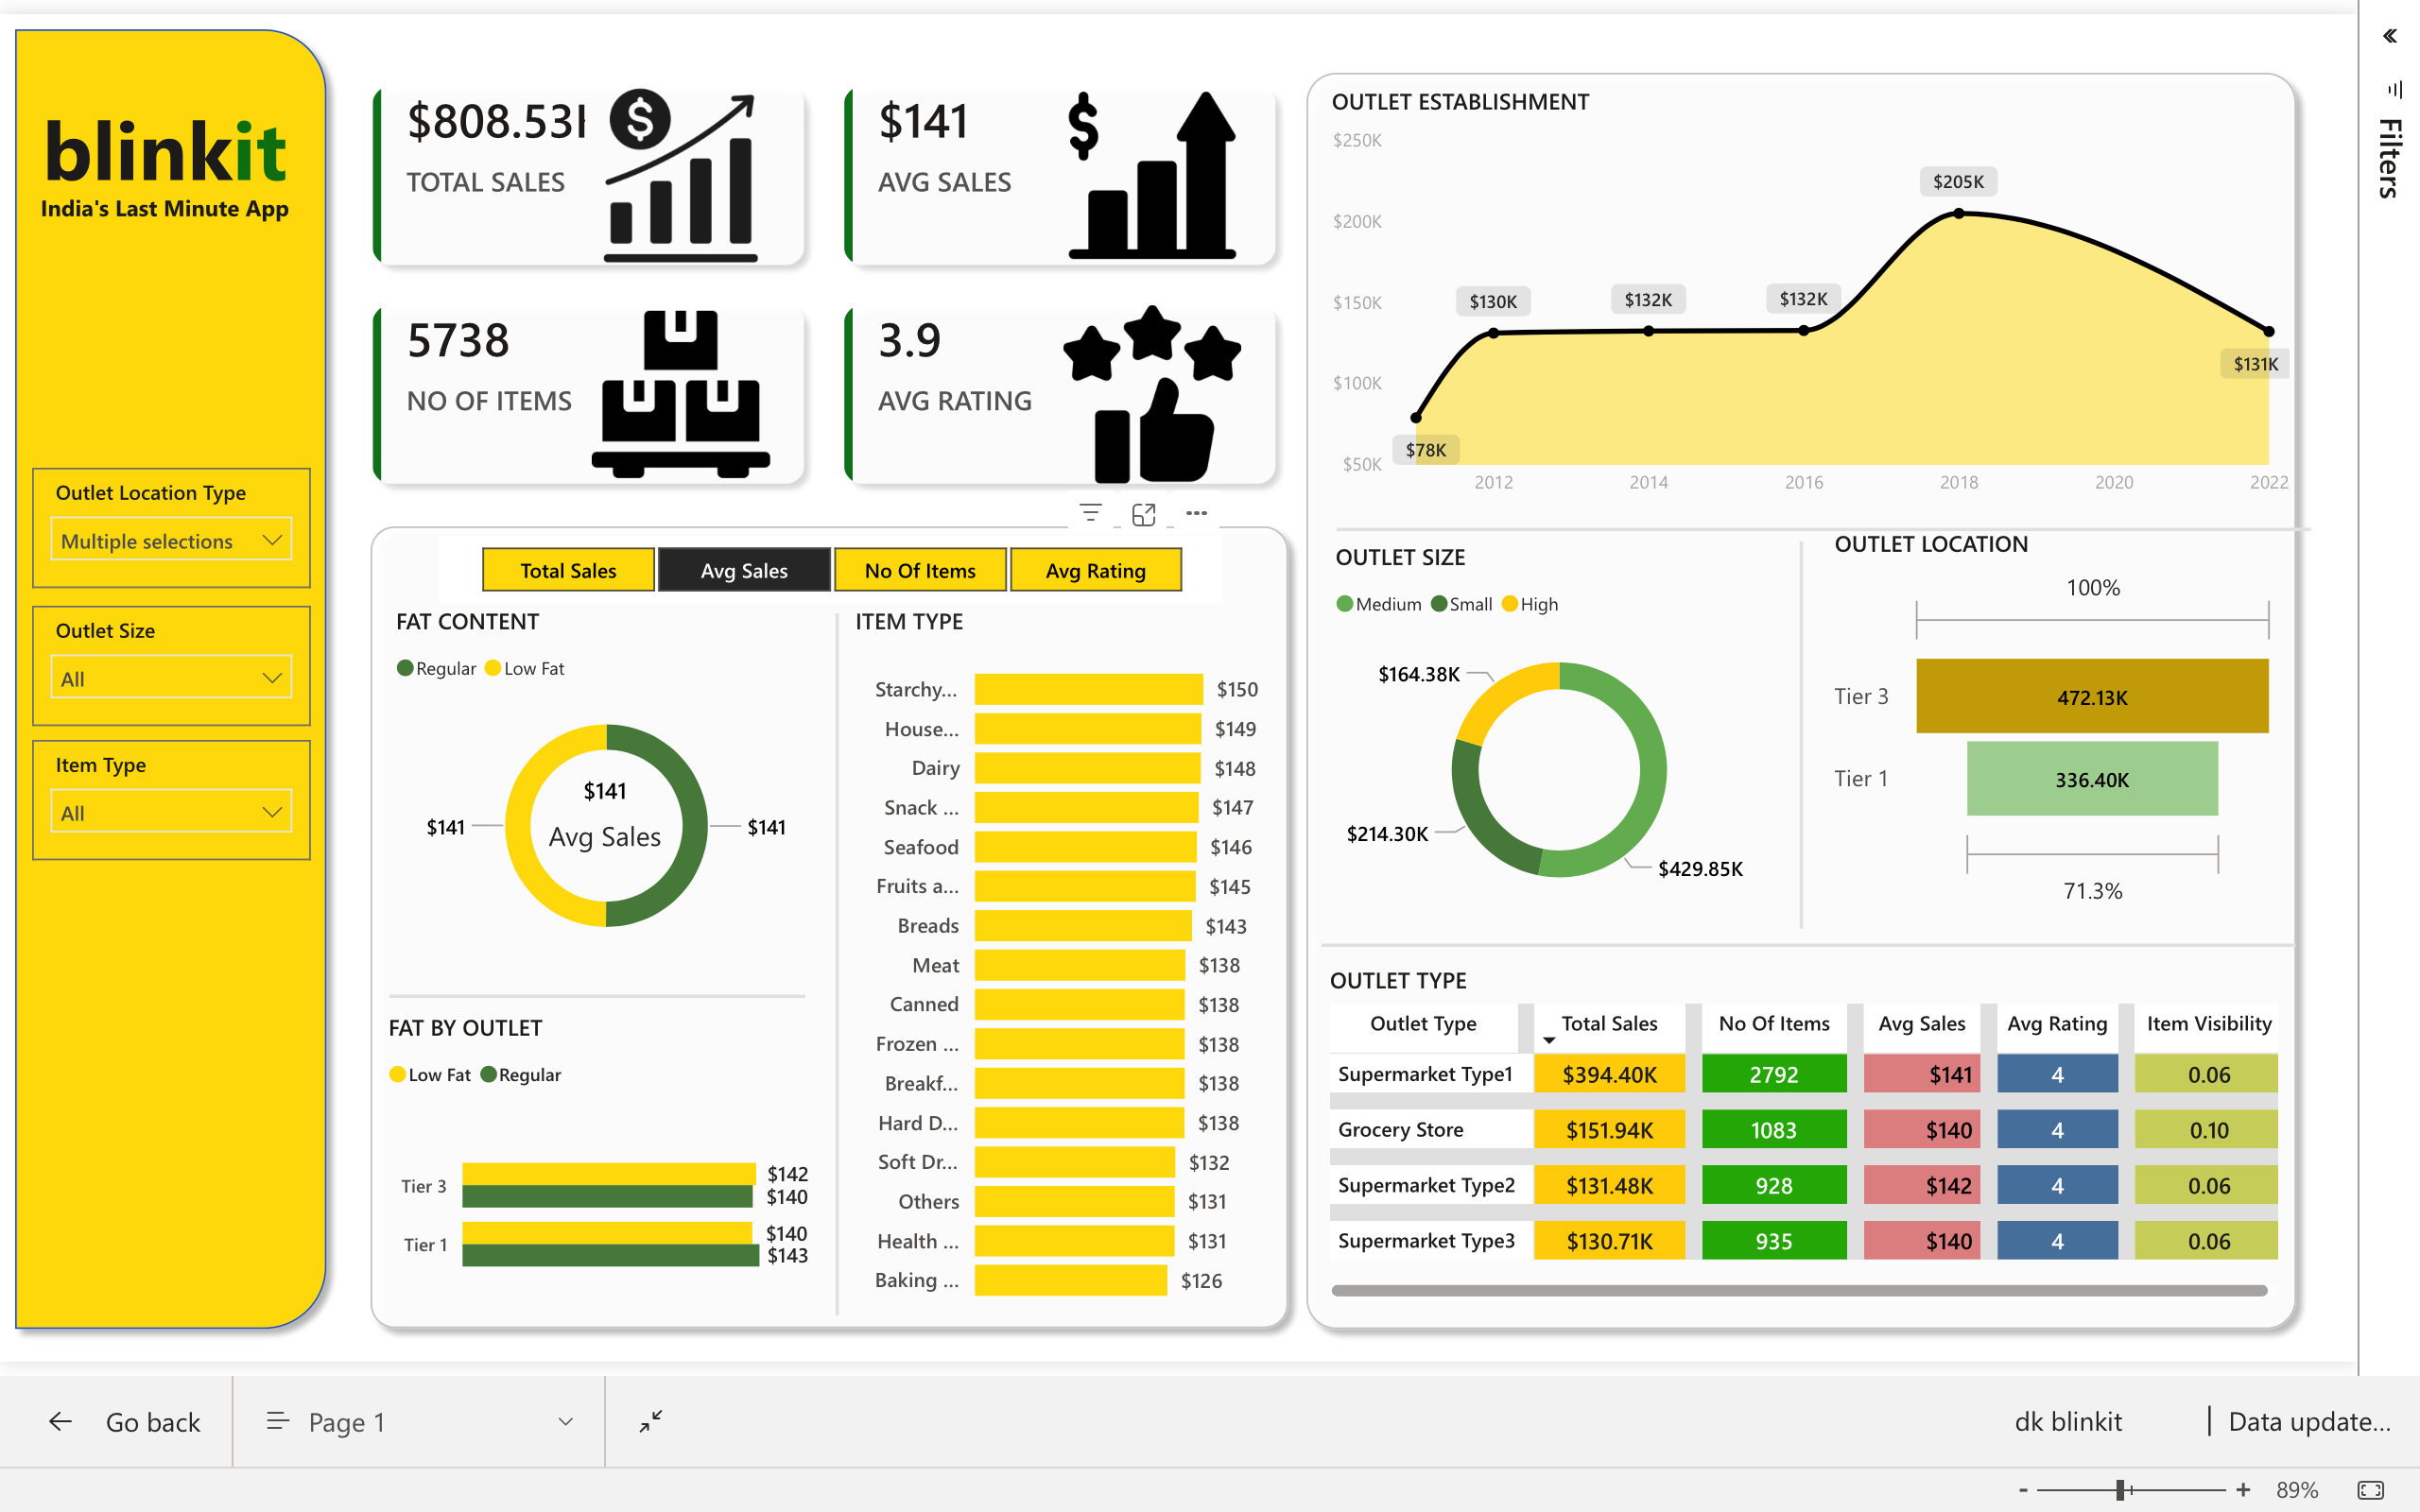

The page's visual inventory and layout, read from the dashboard file:
{"tool":"powerbi","page":{"name":"Page 1","canvas":[1400,800],"ordinal":0},"visuals":[{"type":"shape","box":[0,0,202.9,790],"z":0},{"type":"textbox","box":[0,41.4,195.7,75.7],"z":1000},{"type":"textbox","box":[18.6,101.4,174.3,32.9],"z":2000},{"type":"cardVisual","fields":{"Data":["BlinkIT Grocery Data.Total Sales","BlinkIT Grocery Data.Avg Sales","BlinkIT Grocery Data.No Of Items","BlinkIT Grocery Data.Avg Rating"]},"box":[204.3,25.7,570,270],"z":3000},{"type":"shape","box":[211.4,295.7,562.9,494.3],"z":4000},{"type":"donutChart","title":"FAT CONTENT","fields":{"Y":["BlinkIT Grocery Data.No Of Items"],"Category":["BlinkIT Grocery Data.Item Fat Content"]},"box":[230,351.4,260,215.7],"z":5000},{"type":"slicer","fields":{"Values":["Metrics.Metrics"]},"box":[260,310,465.7,40],"z":6000},{"type":"cardVisual","fields":{"Data":["BlinkIT Grocery Data.No Of Items"]},"box":[295.7,431.4,128.6,87.1],"z":7000},{"type":"clusteredBarChart","title":"FAT BY OUTLET","fields":{"Y":["BlinkIT Grocery Data.No Of Items"],"Category":["BlinkIT Grocery Data.Outlet Location Type"],"Series":["BlinkIT Grocery Data.Item Fat Content"]},"box":[225.7,592.9,260,188.6],"z":8000},{"type":"shape","box":[231.4,542.9,247.1,80],"z":9000},{"type":"shape","box":[477.1,355.7,40,417.1],"z":10000},{"type":"barChart","title":"ITEM TYPE","fields":{"Y":["BlinkIT Grocery Data.No Of Items"],"Category":["BlinkIT Grocery Data.Item Type"]},"box":[502.9,351.4,251.4,424.3],"z":11000},{"type":"shape","box":[767.1,25.7,605.7,764.3],"z":12000},{"type":"lineChart","title":"OUTLET ESTABLISHMENT ","fields":{"Category":["BlinkIT Grocery Data.Outlet Establishment Year"],"Y":["BlinkIT Grocery Data.Total Sales"]},"box":[785.7,42.9,578.6,252.9],"z":13000},{"type":"shape","box":[794.3,265.7,578.6,80],"z":14000},{"type":"donutChart","title":"OUTLET SIZE","fields":{"Y":["BlinkIT Grocery Data.Total Sales"],"Category":["BlinkIT Grocery Data.Outlet Size"]},"box":[788.6,312.9,275.7,225.7],"z":15000},{"type":"shape","box":[1050,312.9,40,230],"z":16000},{"type":"funnel","title":"OUTLET LOCATION","fields":{"Y":["Sum(BlinkIT Grocery Data.Sales)"],"Category":["BlinkIT Grocery Data.Outlet Location Type"]},"box":[1084.3,305.7,272.9,230],"z":17000},{"type":"shape","box":[784.3,512.9,578.6,80],"z":18000},{"type":"pivotTable","title":"OUTLET TYPE","fields":{"Rows":["BlinkIT Grocery Data.Outlet Type"],"Values":["BlinkIT Grocery Data.Total Sales","BlinkIT Grocery Data.No Of Items","BlinkIT Grocery Data.Avg Sales","BlinkIT Grocery Data.Avg Rating","Avg(BlinkIT Grocery Data.Item Visibility)"]},"box":[784.3,564.3,572.9,202.9],"z":19000},{"type":"slicer","fields":{"Values":["BlinkIT Grocery Data.Outlet Size"]},"box":[18.6,351.4,165.7,71.4],"z":20000},{"type":"slicer","fields":{"Values":["BlinkIT Grocery Data.Item Type"]},"box":[18.6,431.4,165.7,71.4],"z":21000},{"type":"slicer","fields":{"Values":["BlinkIT Grocery Data.Outlet Location Type"]},"box":[18.6,270,165.7,71.4],"z":22000}]}

Visuals, with their boxes on the page's 1400x800 design canvas (x1, y1, x2, y2). These are canvas units, not pixel positions in the 2420x1512 screenshot, which may show the page scaled, cropped or inside an application window:
shape: select_region(0, 0, 203, 790)
textbox: select_region(0, 41, 196, 117)
textbox: select_region(19, 101, 193, 134)
cardVisual - BlinkIT Grocery Data.Total Sales x BlinkIT Grocery Data.Avg Sales: select_region(204, 26, 774, 296)
shape: select_region(211, 296, 774, 790)
"FAT CONTENT" donutChart: select_region(230, 351, 490, 567)
slicer - Metrics.Metrics: select_region(260, 310, 726, 350)
cardVisual - BlinkIT Grocery Data.No Of Items: select_region(296, 431, 424, 518)
"FAT BY OUTLET" clusteredBarChart: select_region(226, 593, 486, 782)
shape: select_region(231, 543, 478, 623)
shape: select_region(477, 356, 517, 773)
"ITEM TYPE" barChart: select_region(503, 351, 754, 776)
shape: select_region(767, 26, 1373, 790)
"OUTLET ESTABLISHMENT " lineChart: select_region(786, 43, 1364, 296)
shape: select_region(794, 266, 1373, 346)
"OUTLET SIZE" donutChart: select_region(789, 313, 1064, 539)
shape: select_region(1050, 313, 1090, 543)
"OUTLET LOCATION" funnel: select_region(1084, 306, 1357, 536)
shape: select_region(784, 513, 1363, 593)
"OUTLET TYPE" pivotTable: select_region(784, 564, 1357, 767)
slicer - BlinkIT Grocery Data.Outlet Size: select_region(19, 351, 184, 423)
slicer - BlinkIT Grocery Data.Item Type: select_region(19, 431, 184, 503)
slicer - BlinkIT Grocery Data.Outlet Location Type: select_region(19, 270, 184, 341)
